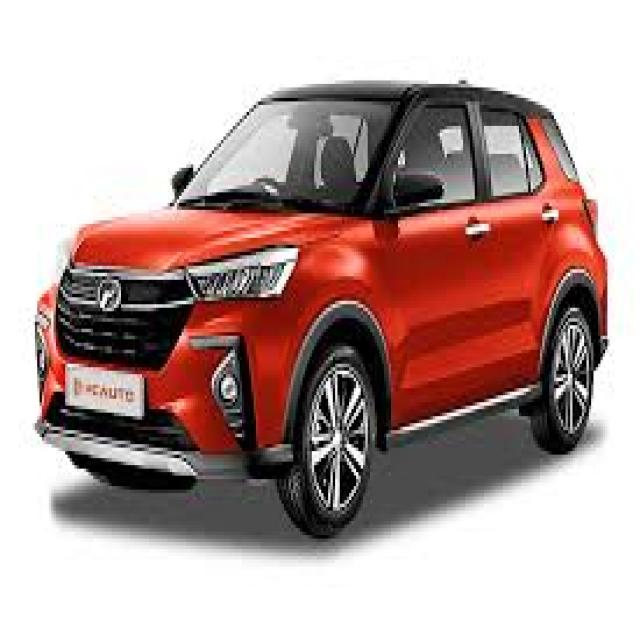PeroduaAtiva: (32, 74, 610, 538)
